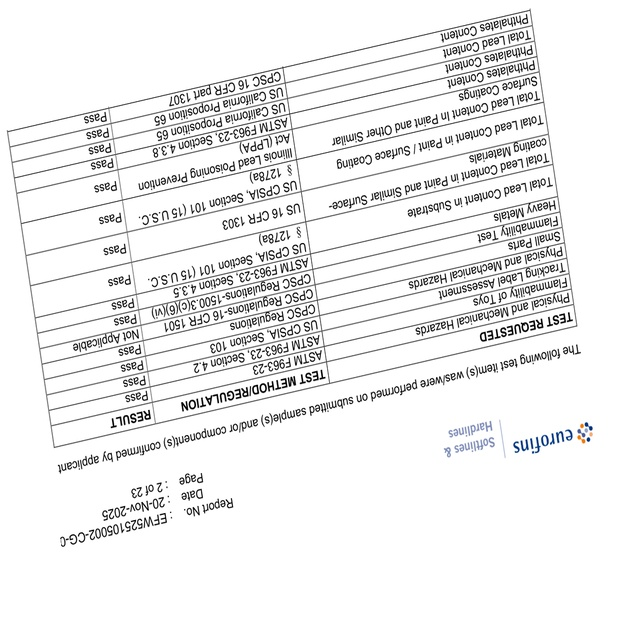eurofins: (509, 419, 604, 463)
